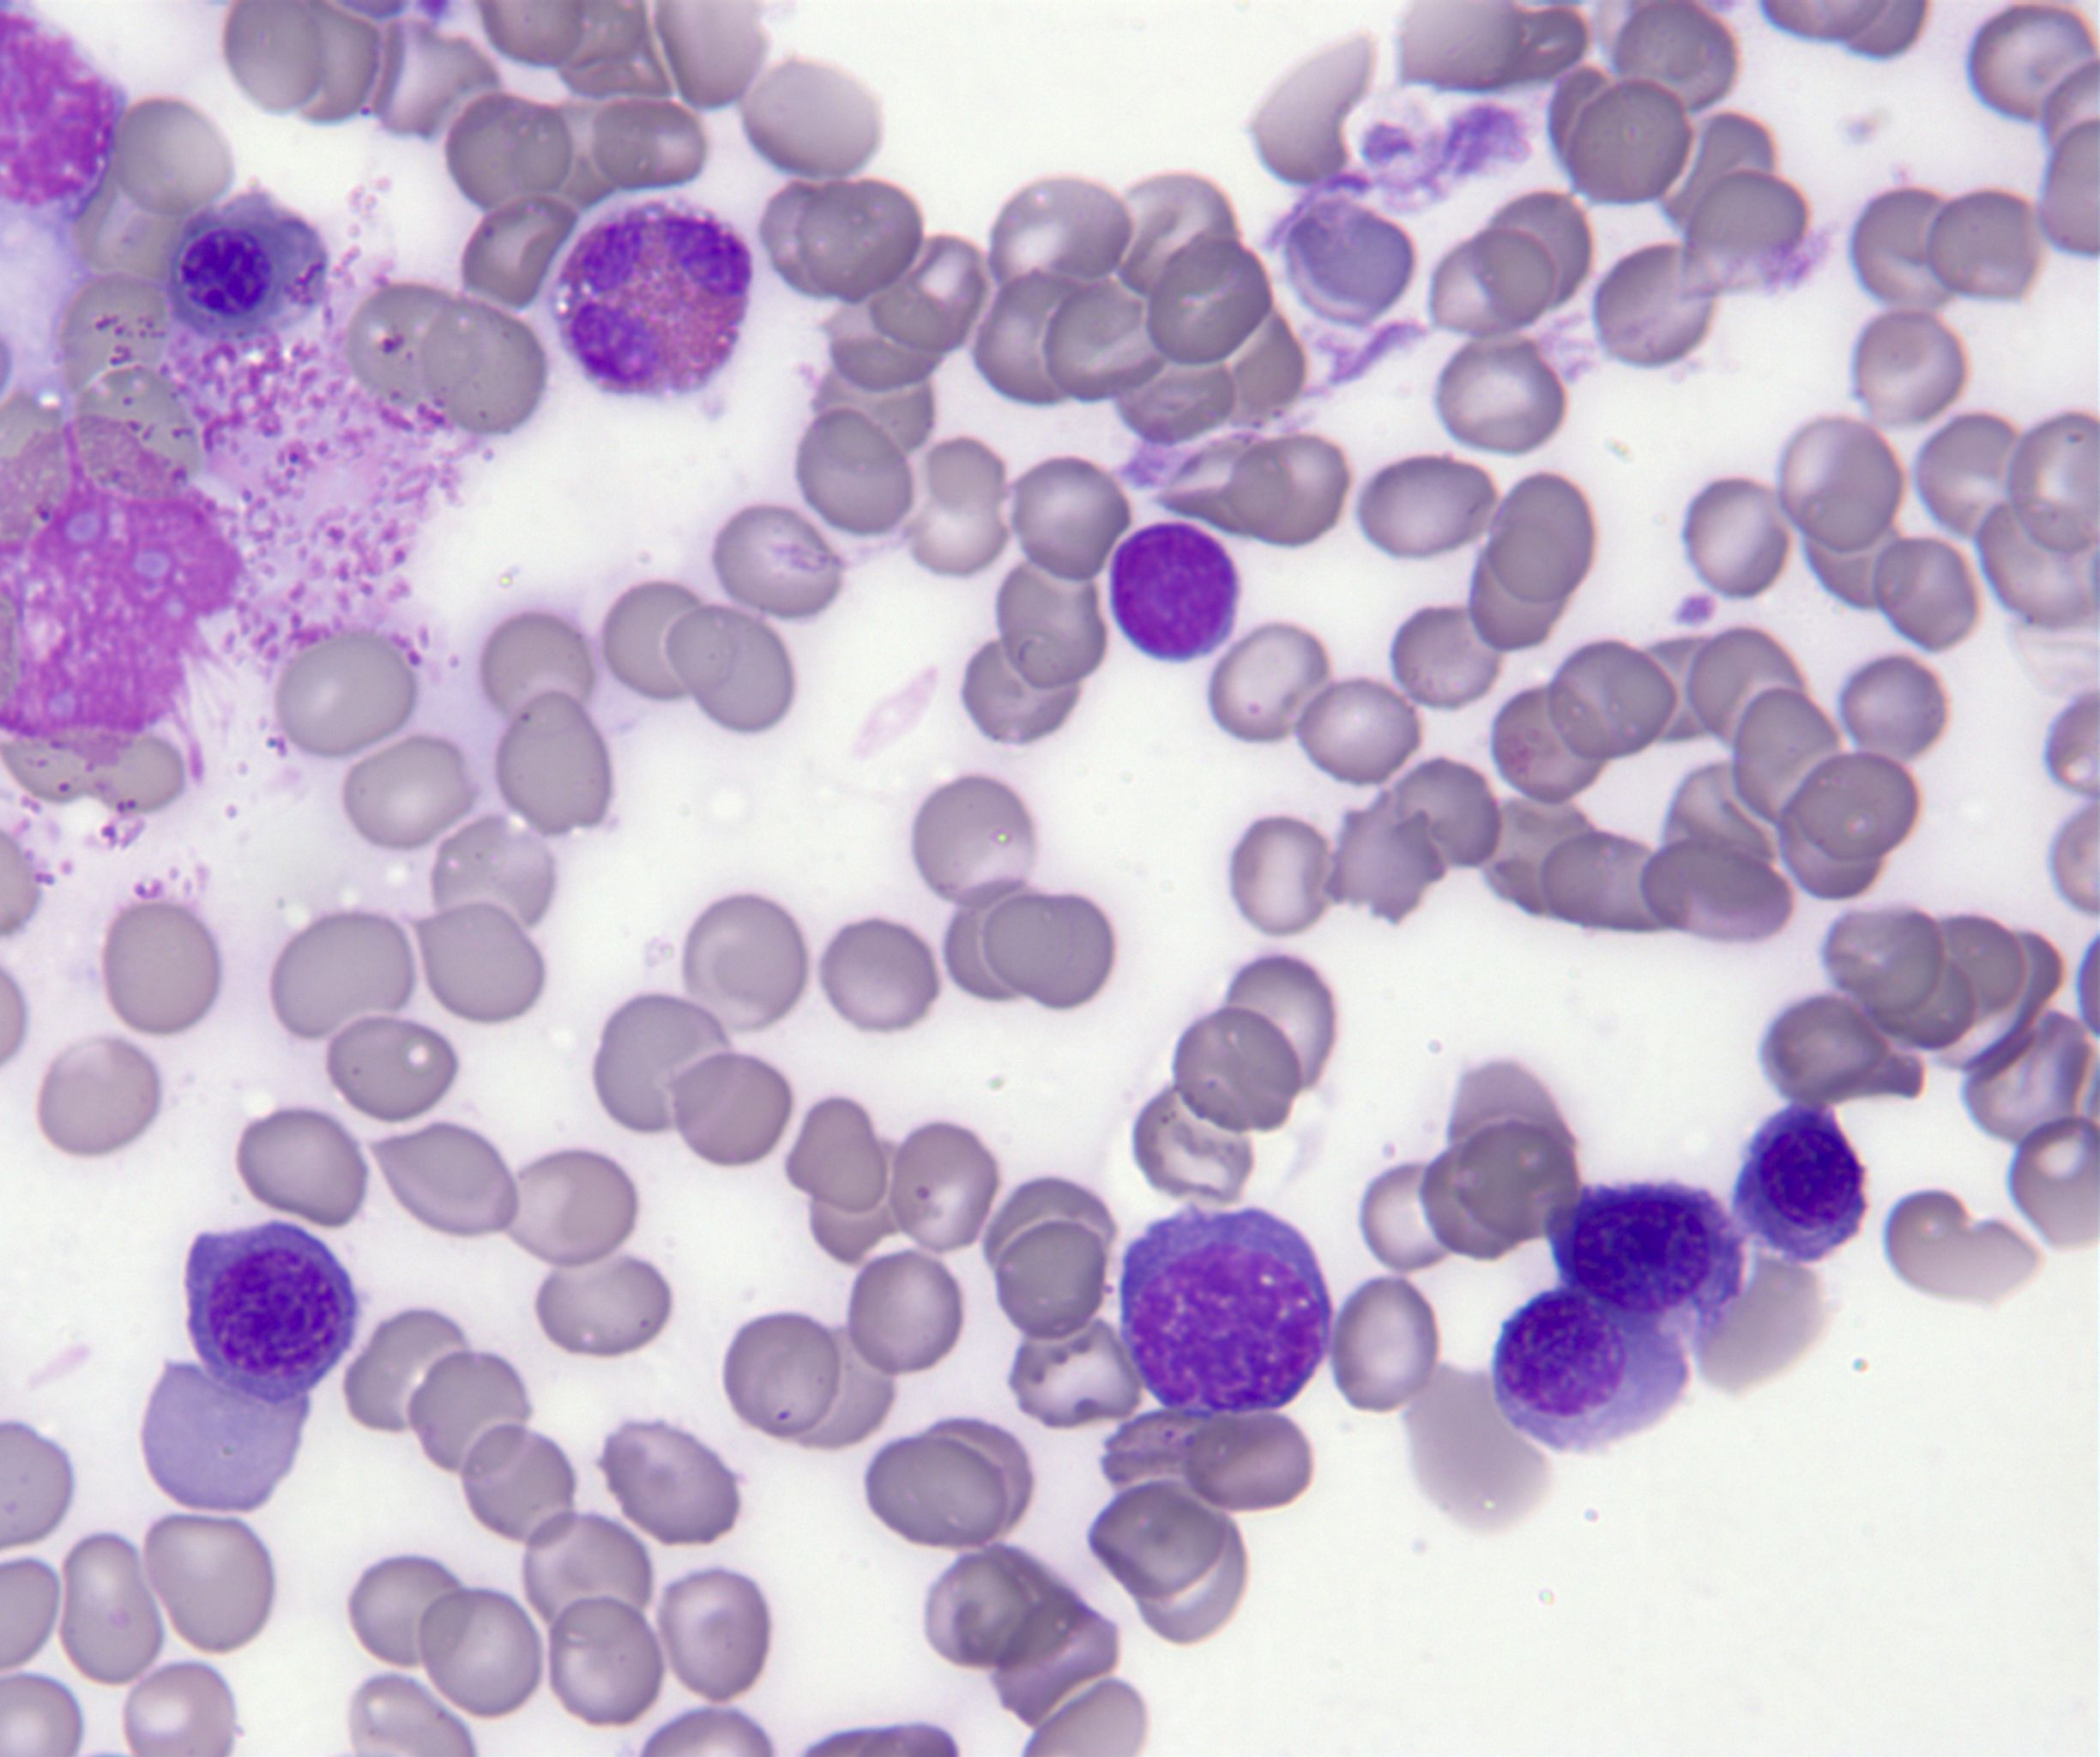23: (1120, 1207, 1336, 1420), (1498, 1288, 1694, 1452), (185, 1220, 359, 1392), (1545, 1178, 1748, 1324)
24: (164, 194, 330, 337), (1742, 1097, 1866, 1256)
32: (1111, 520, 1244, 660)
E4: (553, 202, 753, 400)
